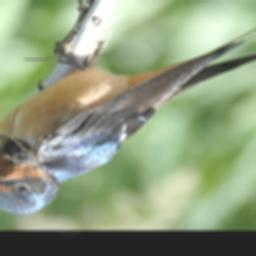Swallow: (0, 12, 256, 215)
